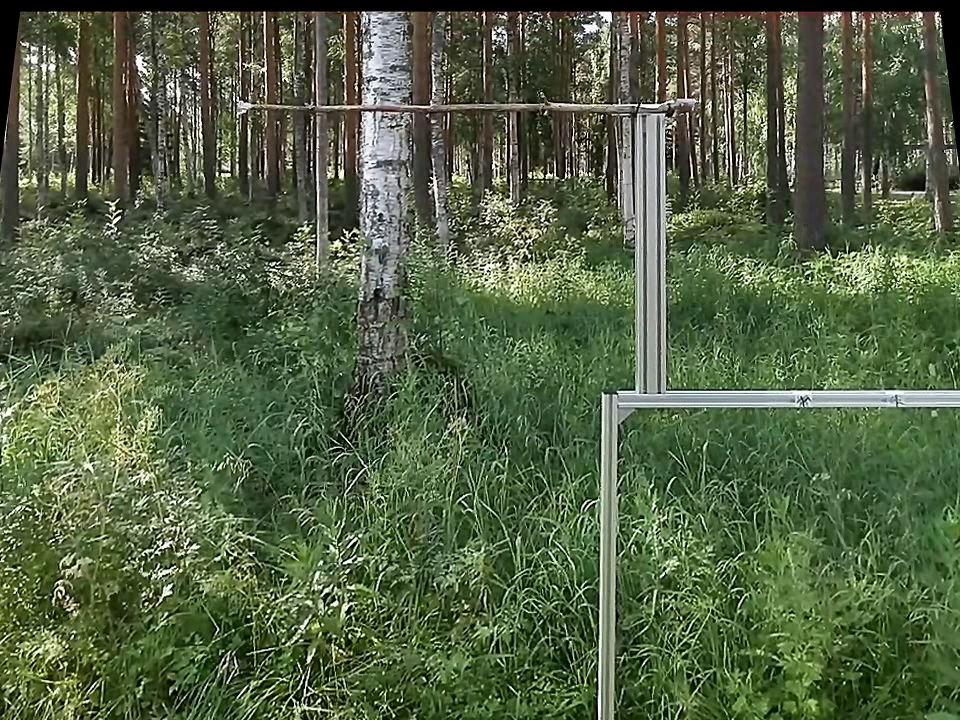aluminum_frame: (629, 114, 674, 393), (615, 381, 959, 411), (592, 388, 623, 718)
branch: (250, 94, 628, 122)
